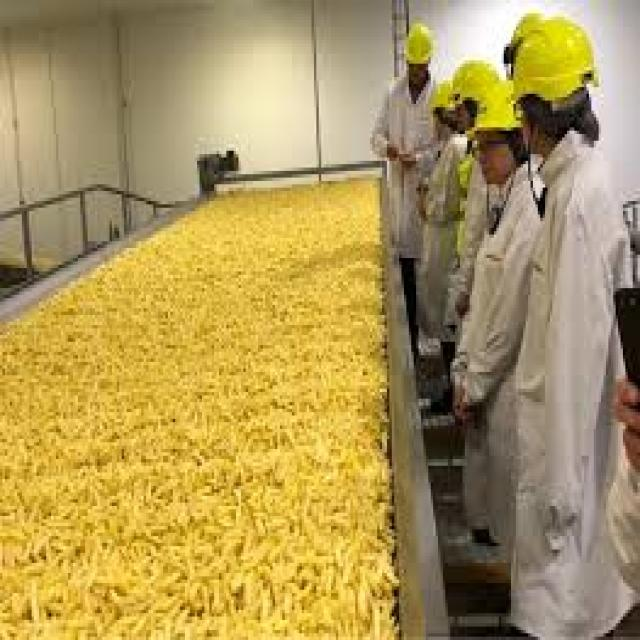Organik: (0, 190, 386, 628)
